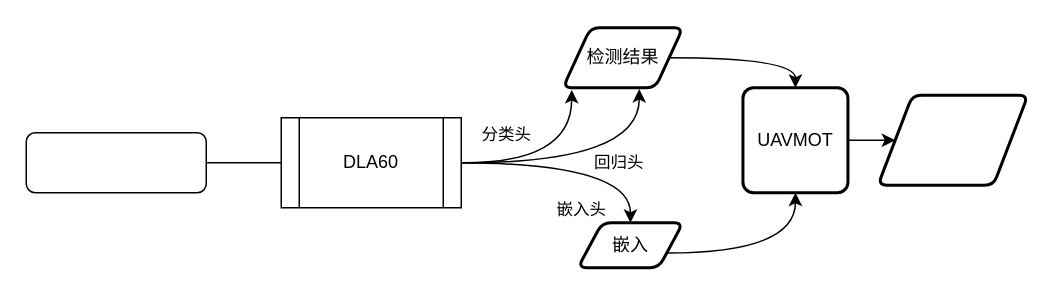
Image size: 1056x294. Some labels were removed from this diagram. Each missing label, with the centre of its shape:
位置&编号: point 952,139
图片序列: point 115,162
